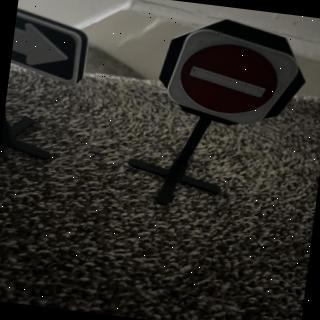sign_noentry: (163, 25, 306, 135)
sign_oneway_right: (10, 8, 92, 90)
